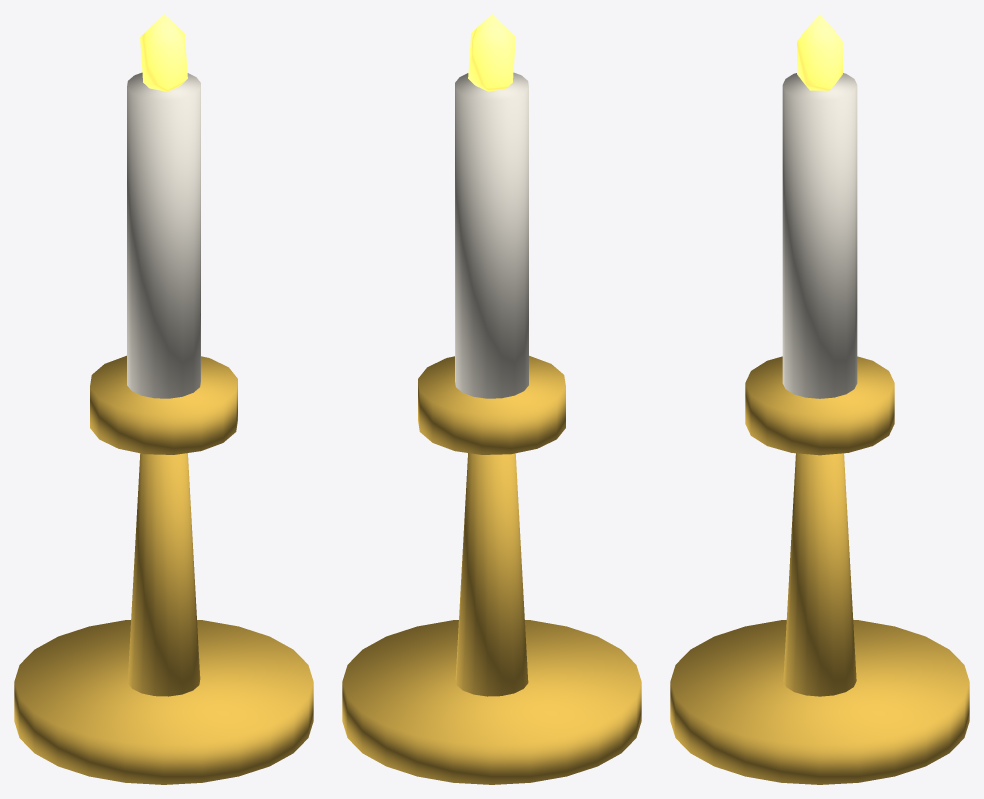
Rendered from candela.glb.
The picture shows the model from 3 angles, left to right: view 1: azimuth 30°, elevation 25°; view 2: azimuth 150°, elevation 25°; view 3: azimuth 270°, elevation 25°; orthographic projection.
Parts seen in each view (by area): view 1: Cylinder, Cylinder.002, Cone, Cylinder.001, Icosphere; view 2: Cylinder, Cylinder.002, Cone, Cylinder.001, Icosphere; view 3: Cylinder, Cylinder.002, Cone, Cylinder.001, Icosphere.
Part boxes in pixels (x1,y1,x2,y2): Cylinder: (14,620,313,784); Cylinder.002: (127,72,200,398); Cone: (127,453,200,696); Cylinder.001: (90,355,237,454); Icosphere: (140,14,187,91); Cylinder: (342,620,641,784); Cylinder.002: (455,72,528,398); Cone: (455,453,528,696); Cylinder.001: (418,355,565,454); Icosphere: (468,14,515,91); Cylinder: (670,620,969,784); Cylinder.002: (782,73,857,398); Cone: (783,453,856,696); Cylinder.001: (745,356,894,455); Icosphere: (797,14,842,90).
Bounding box in the file's own units: 0.2 × 0.5224 × 0.2.
